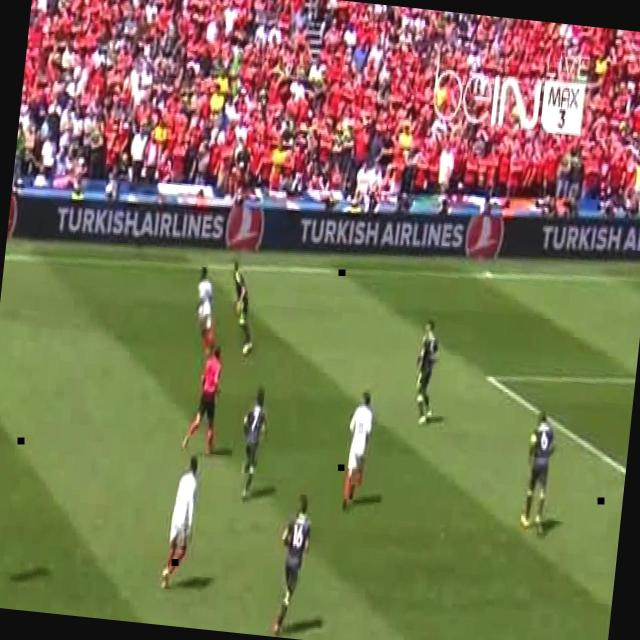player-white: (271, 492, 314, 636), (158, 453, 201, 590), (180, 345, 226, 455), (518, 410, 557, 538), (340, 390, 376, 514), (235, 387, 271, 503), (410, 316, 444, 426), (224, 257, 261, 355), (190, 265, 218, 357)
